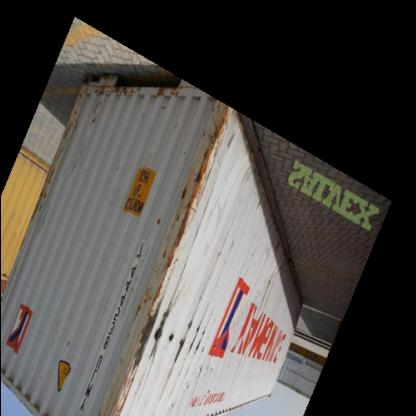Damage: (110, 113, 214, 404), (29, 97, 88, 229), (247, 242, 288, 310)
